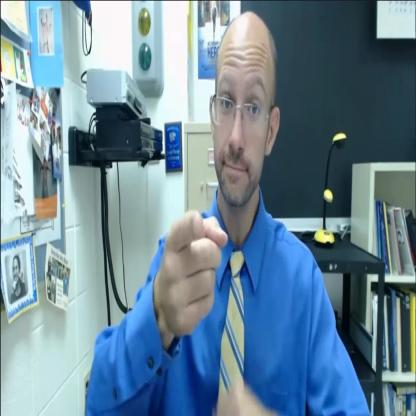HowAreYou: (120, 12, 326, 416)
